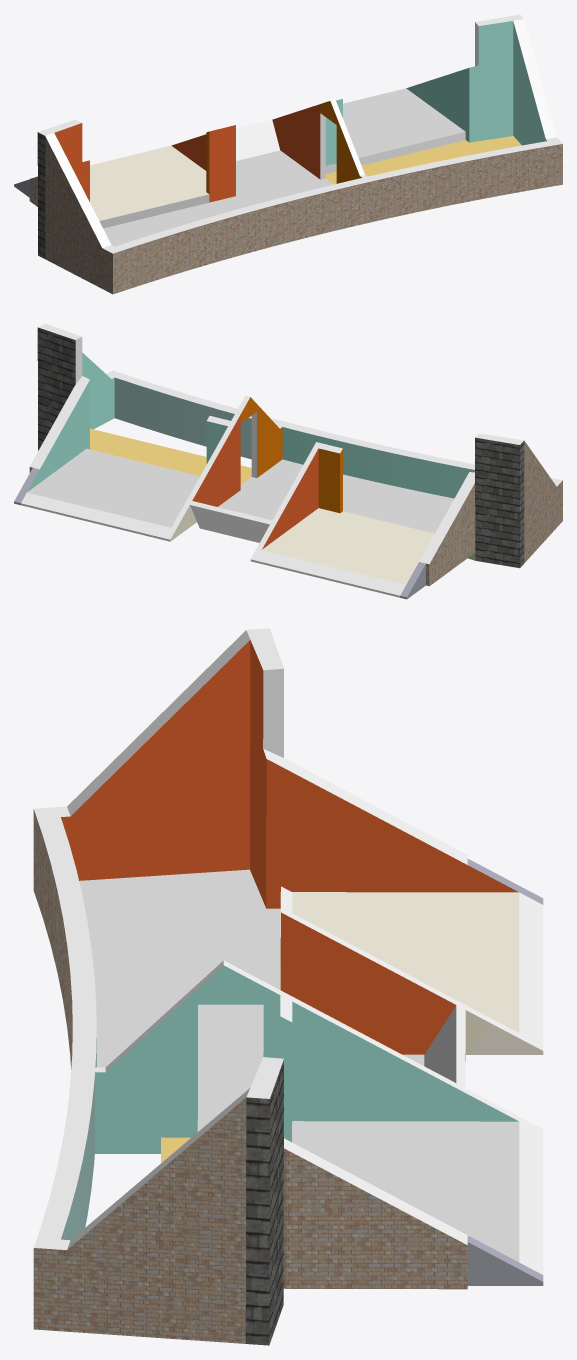
The picture shows the model from 3 angles, top to bottom: view 1: azimuth 30°, elevation 25°; view 2: azimuth 150°, elevation 25°; view 3: azimuth 270°, elevation 25°; orthographic projection. The views are drawn at different scales.
Visible parts, largest first — view 1: 02_TV; view 2: 02_TV; view 3: 02_TV.
Boxes of the visible parts, x1,y1,x2,y2 form: 02_TV: [14, 14, 562, 294]; 02_TV: [14, 323, 562, 599]; 02_TV: [33, 628, 543, 1345].
Size of the model in its own units: 0.14 by 0.0641 by 0.0342.
23 materials, 2 textured.
